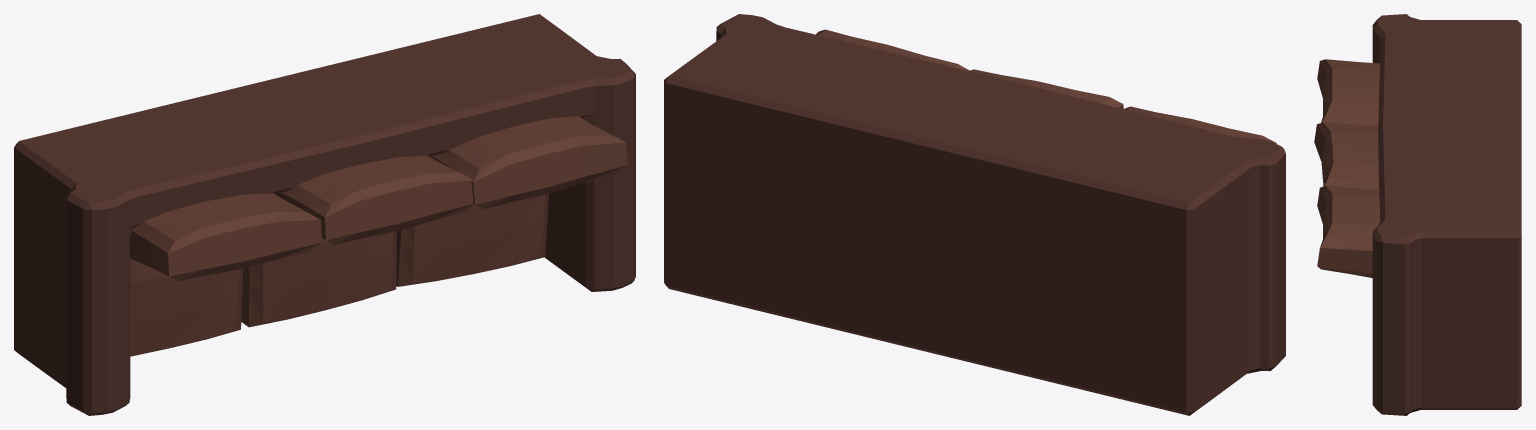
The model's file is sofa-three-seat.obj.
3 renders of one model, left to right at view 1: azimuth 30°, elevation 25°; view 2: azimuth 150°, elevation 25°; view 3: azimuth 270°, elevation 25°, orthographic. The views are drawn at different scales.
Visible parts, largest first — view 1: sofa-three-seat; view 2: sofa-three-seat; view 3: sofa-three-seat.
Part boxes in pixels (bbox=[...]): sofa-three-seat: bbox=[14, 14, 635, 415]; sofa-three-seat: bbox=[664, 14, 1285, 415]; sofa-three-seat: bbox=[1314, 14, 1521, 415].
Bounding box in the file's own units: 83.18 × 30.27 × 32.
